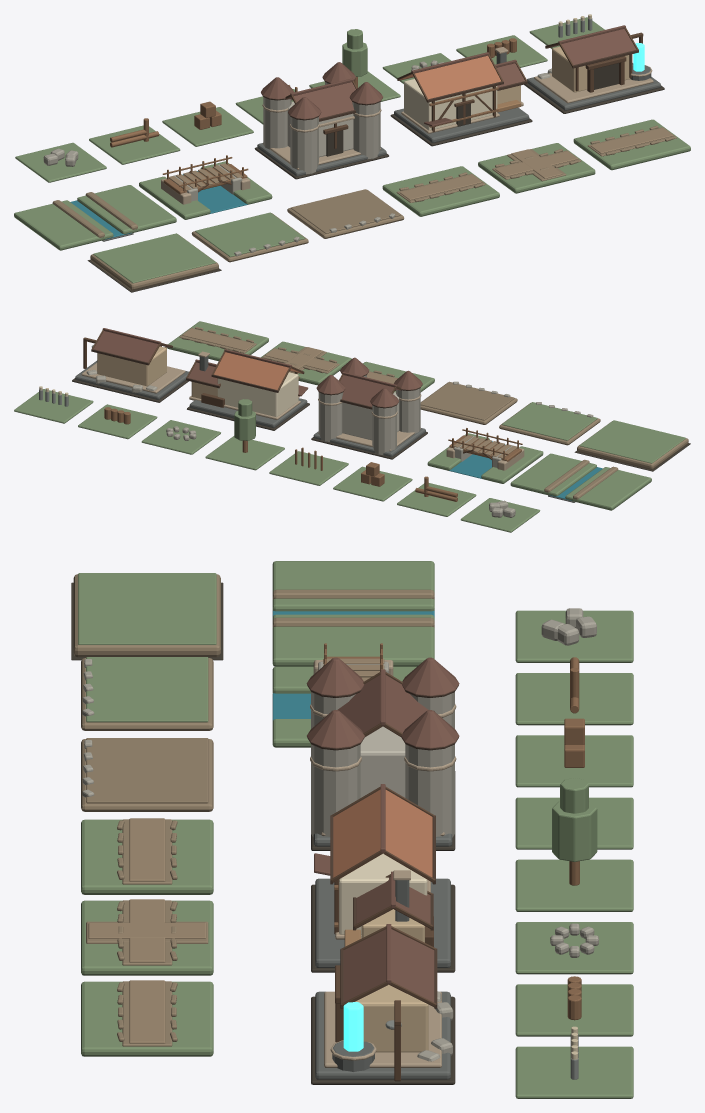
The model's file is salto_barrosan_architecture_kit.glb.
3 views of the same model, one above another, from view 1: azimuth 30°, elevation 25°; view 2: azimuth 150°, elevation 25°; view 3: azimuth 270°, elevation 25° (orthographic). The views are drawn at different scales.
Visible parts, largest first — view 1: TerrainBase_GrassCap, earth_patch_Surface, grass_patch_Surface, RiverTerrainLeft, RiverTerrainRight, road_bridge_connector_Terrain, road_straight_Terrain, Barracks_Roof_Plane_North, Barracks_Wall, road_intersection_Terrain, prop_rock_cluster_Plinth, prop_crate_stack_Plinth (+40 smaller); view 2: TerrainBase_GrassCap, earth_patch_Surface, grass_patch_Surface, Barracks_Wall, RiverTerrainLeft, RiverTerrainRight, Barracks_Roof_Plane_South, Mine_Hall, prop_tree_Plinth, prop_posts_Plinth, unit_scale_dummies_Plinth, prop_rubble_Plinth (+39 smaller); view 3: TerrainBase_GrassCap, grass_patch_Surface, earth_patch_Surface, RiverTerrainLeft, road_bridge_connector_Terrain, road_straight_Terrain, RiverTerrainRight, unit_scale_dummies_Plinth, prop_tree_Plinth, prop_log_stack_Plinth, prop_barrels_Plinth, prop_crate_stack_Plinth (+44 smaller).
Part boxes in pixels (box(x1,y1,x2,y2)): TerrainBase_GrassCap: box(93, 233, 216, 283); earth_patch_Surface: box(290, 189, 400, 233); grass_patch_Surface: box(195, 212, 305, 256); RiverTerrainLeft: box(14, 200, 113, 250); RiverTerrainRight: box(77, 185, 176, 234); road_bridge_connector_Terrain: box(573, 119, 690, 170); road_straight_Terrain: box(382, 166, 499, 216); Barracks_Roof_Plane_North: box(415, 55, 501, 99); Barracks_Wall: box(404, 79, 497, 130); road_intersection_Terrain: box(478, 143, 595, 193); prop_rock_cluster_Plinth: box(15, 142, 106, 182); prop_crate_stack_Plinth: box(162, 107, 253, 146); TerrainBase_GrassCap: box(579, 420, 686, 463); earth_patch_Surface: box(420, 381, 514, 420); grass_patch_Surface: box(502, 402, 597, 440); Barracks_Wall: box(217, 372, 298, 416); RiverTerrainLeft: box(565, 467, 651, 510); RiverTerrainRight: box(510, 453, 596, 496); Barracks_Roof_Plane_South: box(214, 352, 288, 389); Mine_Hall: box(97, 346, 166, 386); prop_tree_Plinth: box(205, 436, 284, 470); prop_posts_Plinth: box(269, 451, 348, 485); unit_scale_dummies_Plinth: box(14, 389, 93, 423); prop_rubble_Plinth: box(141, 420, 220, 454); TerrainBase_GrassCap: box(78, 573, 216, 644); grass_patch_Surface: box(86, 657, 208, 722); earth_patch_Surface: box(86, 738, 208, 803); RiverTerrainLeft: box(272, 561, 434, 611); road_bridge_connector_Terrain: box(81, 981, 213, 1056); road_straight_Terrain: box(81, 819, 213, 894); RiverTerrainRight: box(272, 614, 434, 666); unit_scale_dummies_Plinth: box(515, 1046, 633, 1098); prop_tree_Plinth: box(515, 859, 633, 911); prop_log_stack_Plinth: box(515, 673, 633, 725); prop_barrels_Plinth: box(515, 984, 633, 1036); prop_crate_stack_Plinth: box(515, 735, 633, 787).
Bounding box in the file's own units: 86 × 10.25 × 38.15.
